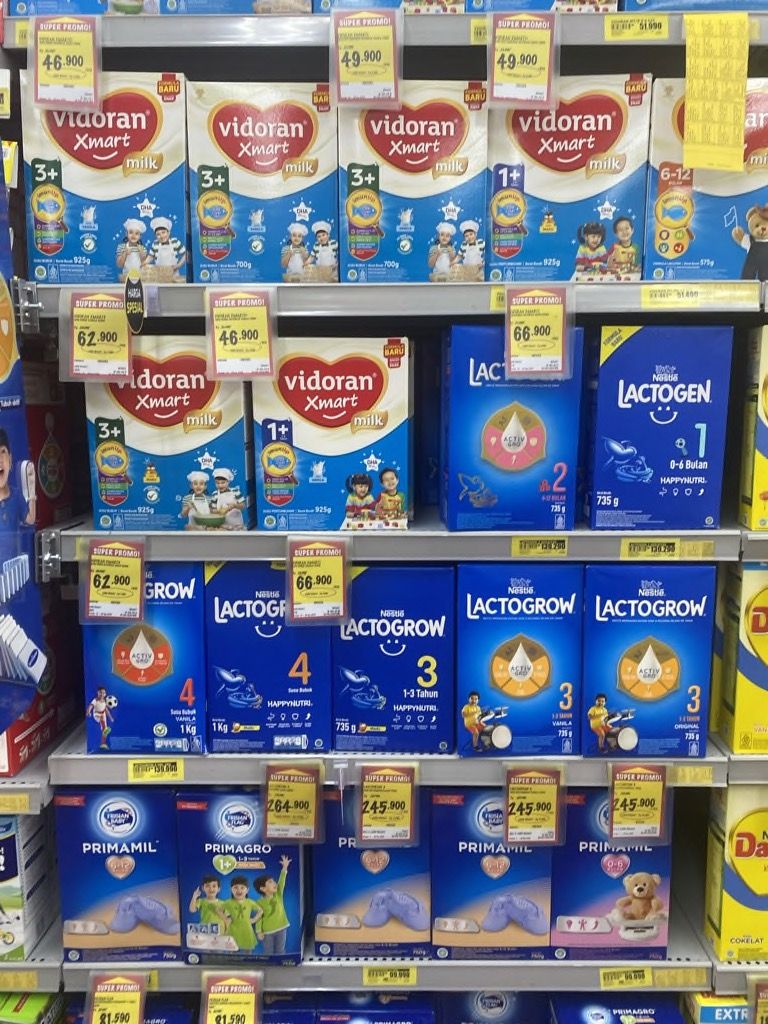LACTOGROW 3 Happynutri Honey 12x750g N1 ID_REDESIGN2: (455, 563, 583, 755)
LACTOGROW 3 Happynutri Honey 24x350g N1 ID_REDESIGN2: (455, 563, 582, 754)
LACTOGROW 3 Happynutri Van 12x750g N1 ID_REDESIGN2: (455, 563, 583, 756)
